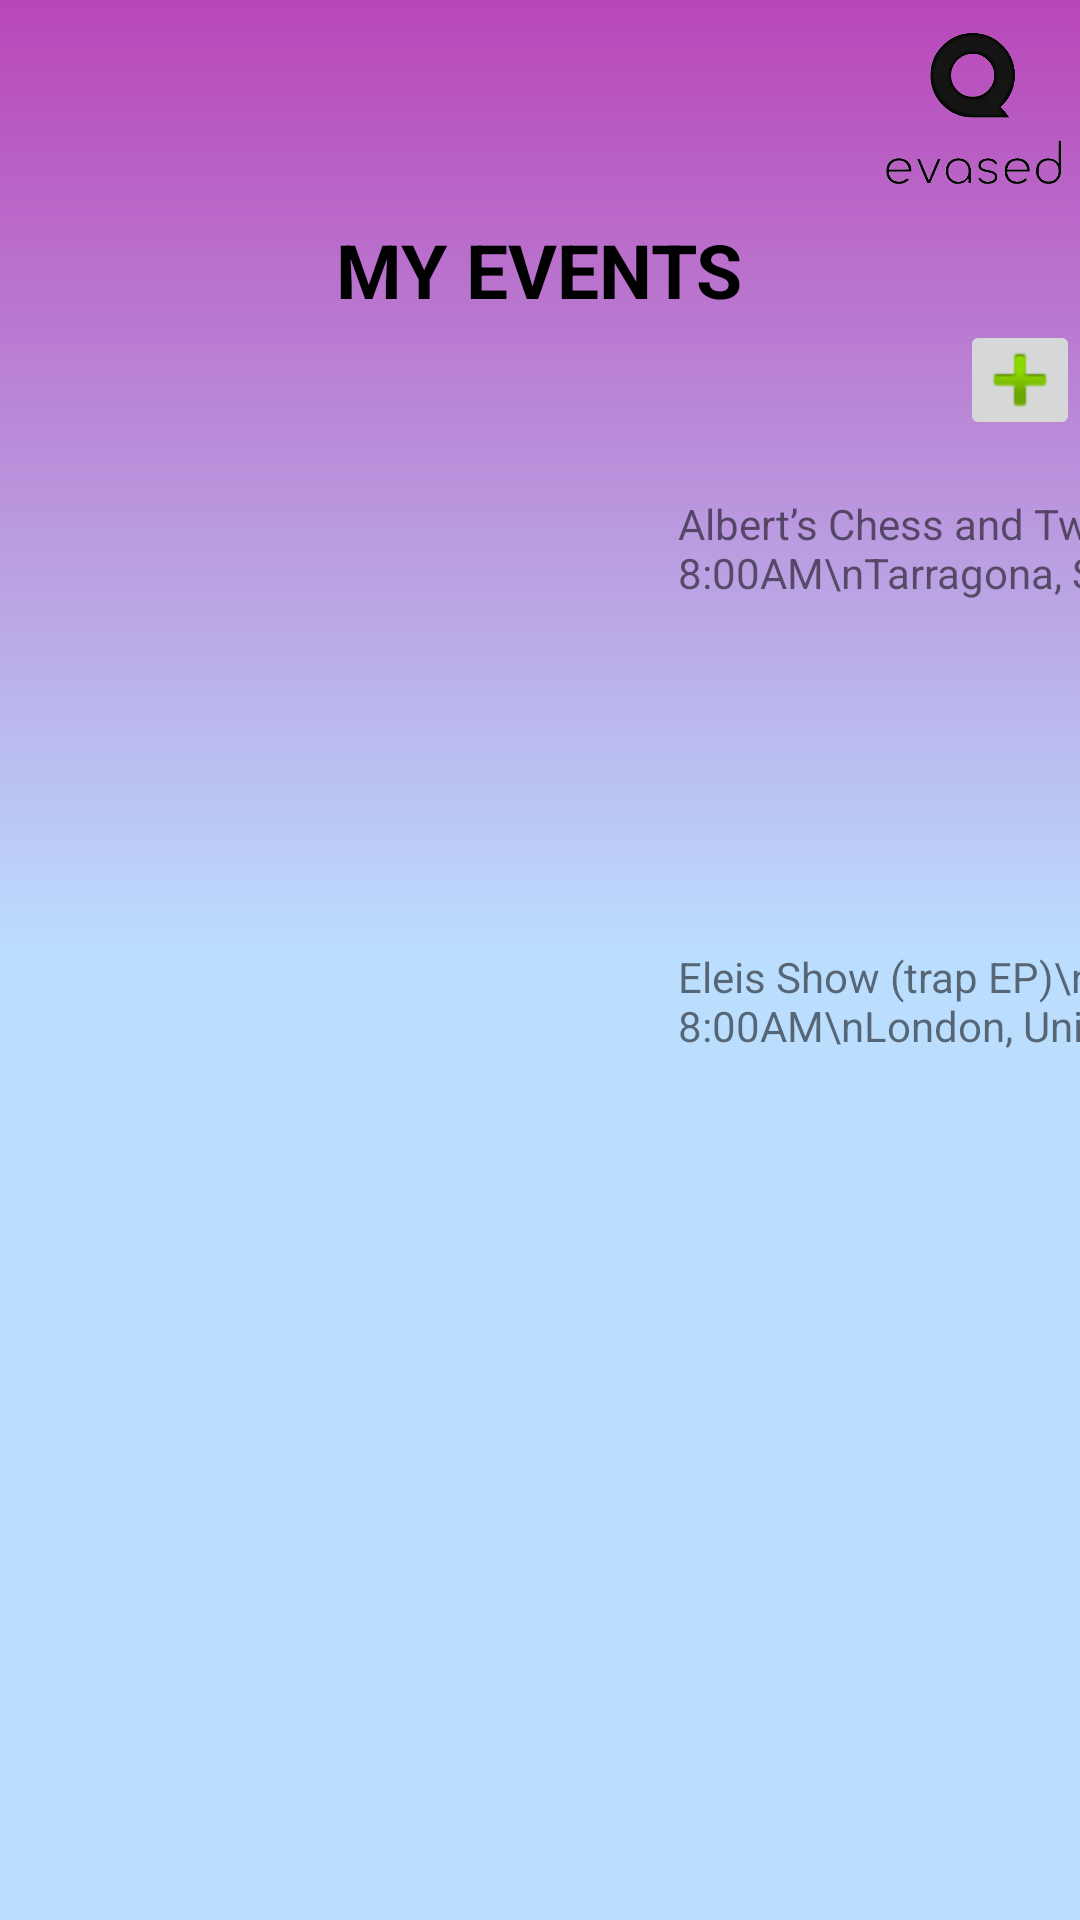

Point at icon controls on the screen. Image size 1080×1920, points as [x,y].
add: [1020,380]
